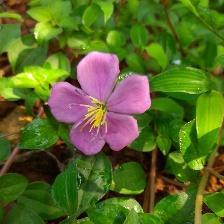malabar melastome: (49, 50, 157, 157)
